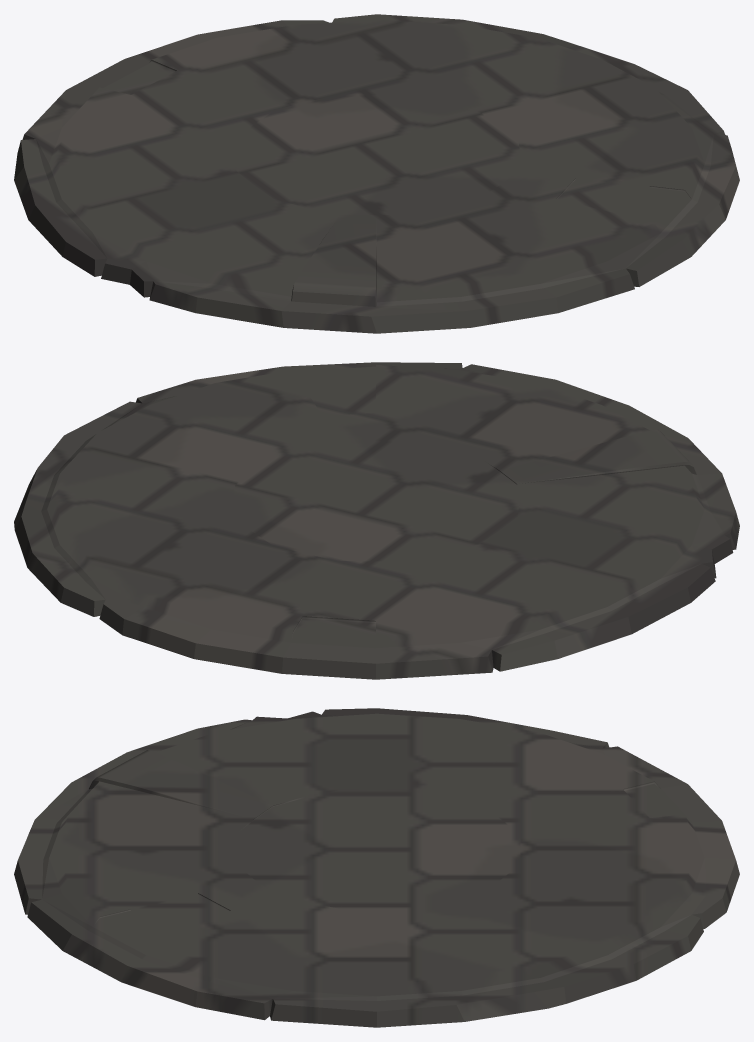
File: SM_Prop_Rug_02_Round_01.fbx
The picture shows the model from 3 angles, top to bottom: view 1: azimuth 30°, elevation 25°; view 2: azimuth 150°, elevation 25°; view 3: azimuth 270°, elevation 25°; orthographic projection.
Parts seen in each view (by area): view 1: SM_Prop_Rug_02_Round_01; view 2: SM_Prop_Rug_02_Round_01; view 3: SM_Prop_Rug_02_Round_01.
Part boxes in pixels (<box>): SM_Prop_Rug_02_Round_01: <box>14,14,739,333</box>; SM_Prop_Rug_02_Round_01: <box>14,362,739,679</box>; SM_Prop_Rug_02_Round_01: <box>14,708,739,1027</box>.
Bounding box in the file's own units: 6.51 × 0.2849 × 6.51.
Materials: 1 (1 with a texture image).
